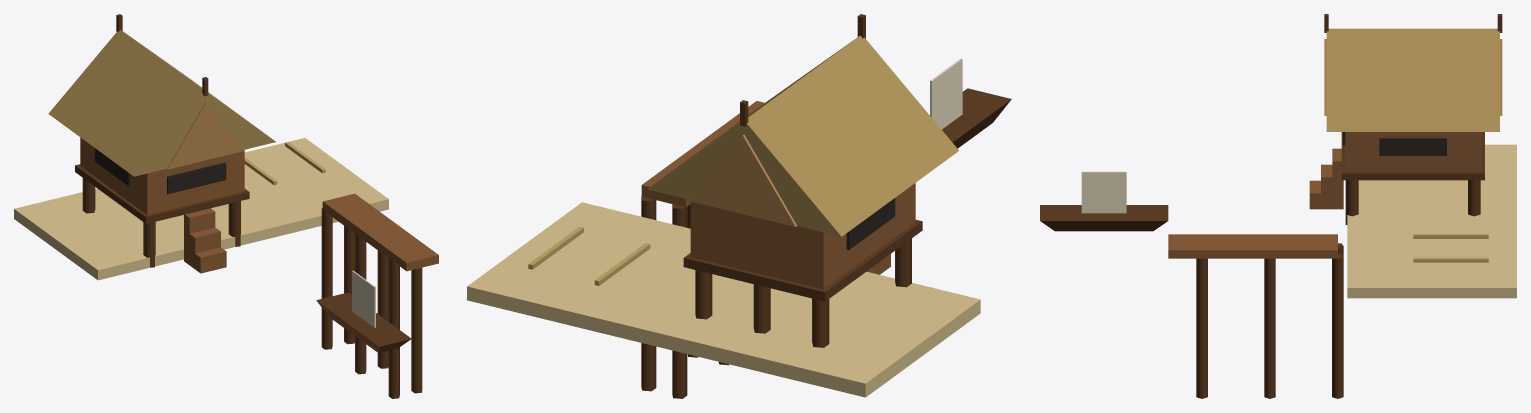
File: building_nelayan.glb
3 renders of one model, left to right at view 1: azimuth 30°, elevation 25°; view 2: azimuth 150°, elevation 25°; view 3: azimuth 270°, elevation 25°, orthographic. The views are drawn at different scales.
Parts seen in each view (by area): view 1: building_nelayan; view 2: building_nelayan; view 3: building_nelayan.
Part boxes in pixels (box(x1,y1,x2,y2)): building_nelayan: box(14, 14, 438, 398); building_nelayan: box(467, 14, 1011, 398); building_nelayan: box(1040, 14, 1516, 398).
Size of the model in its own units: 0.9 by 0.9 by 1.27.
